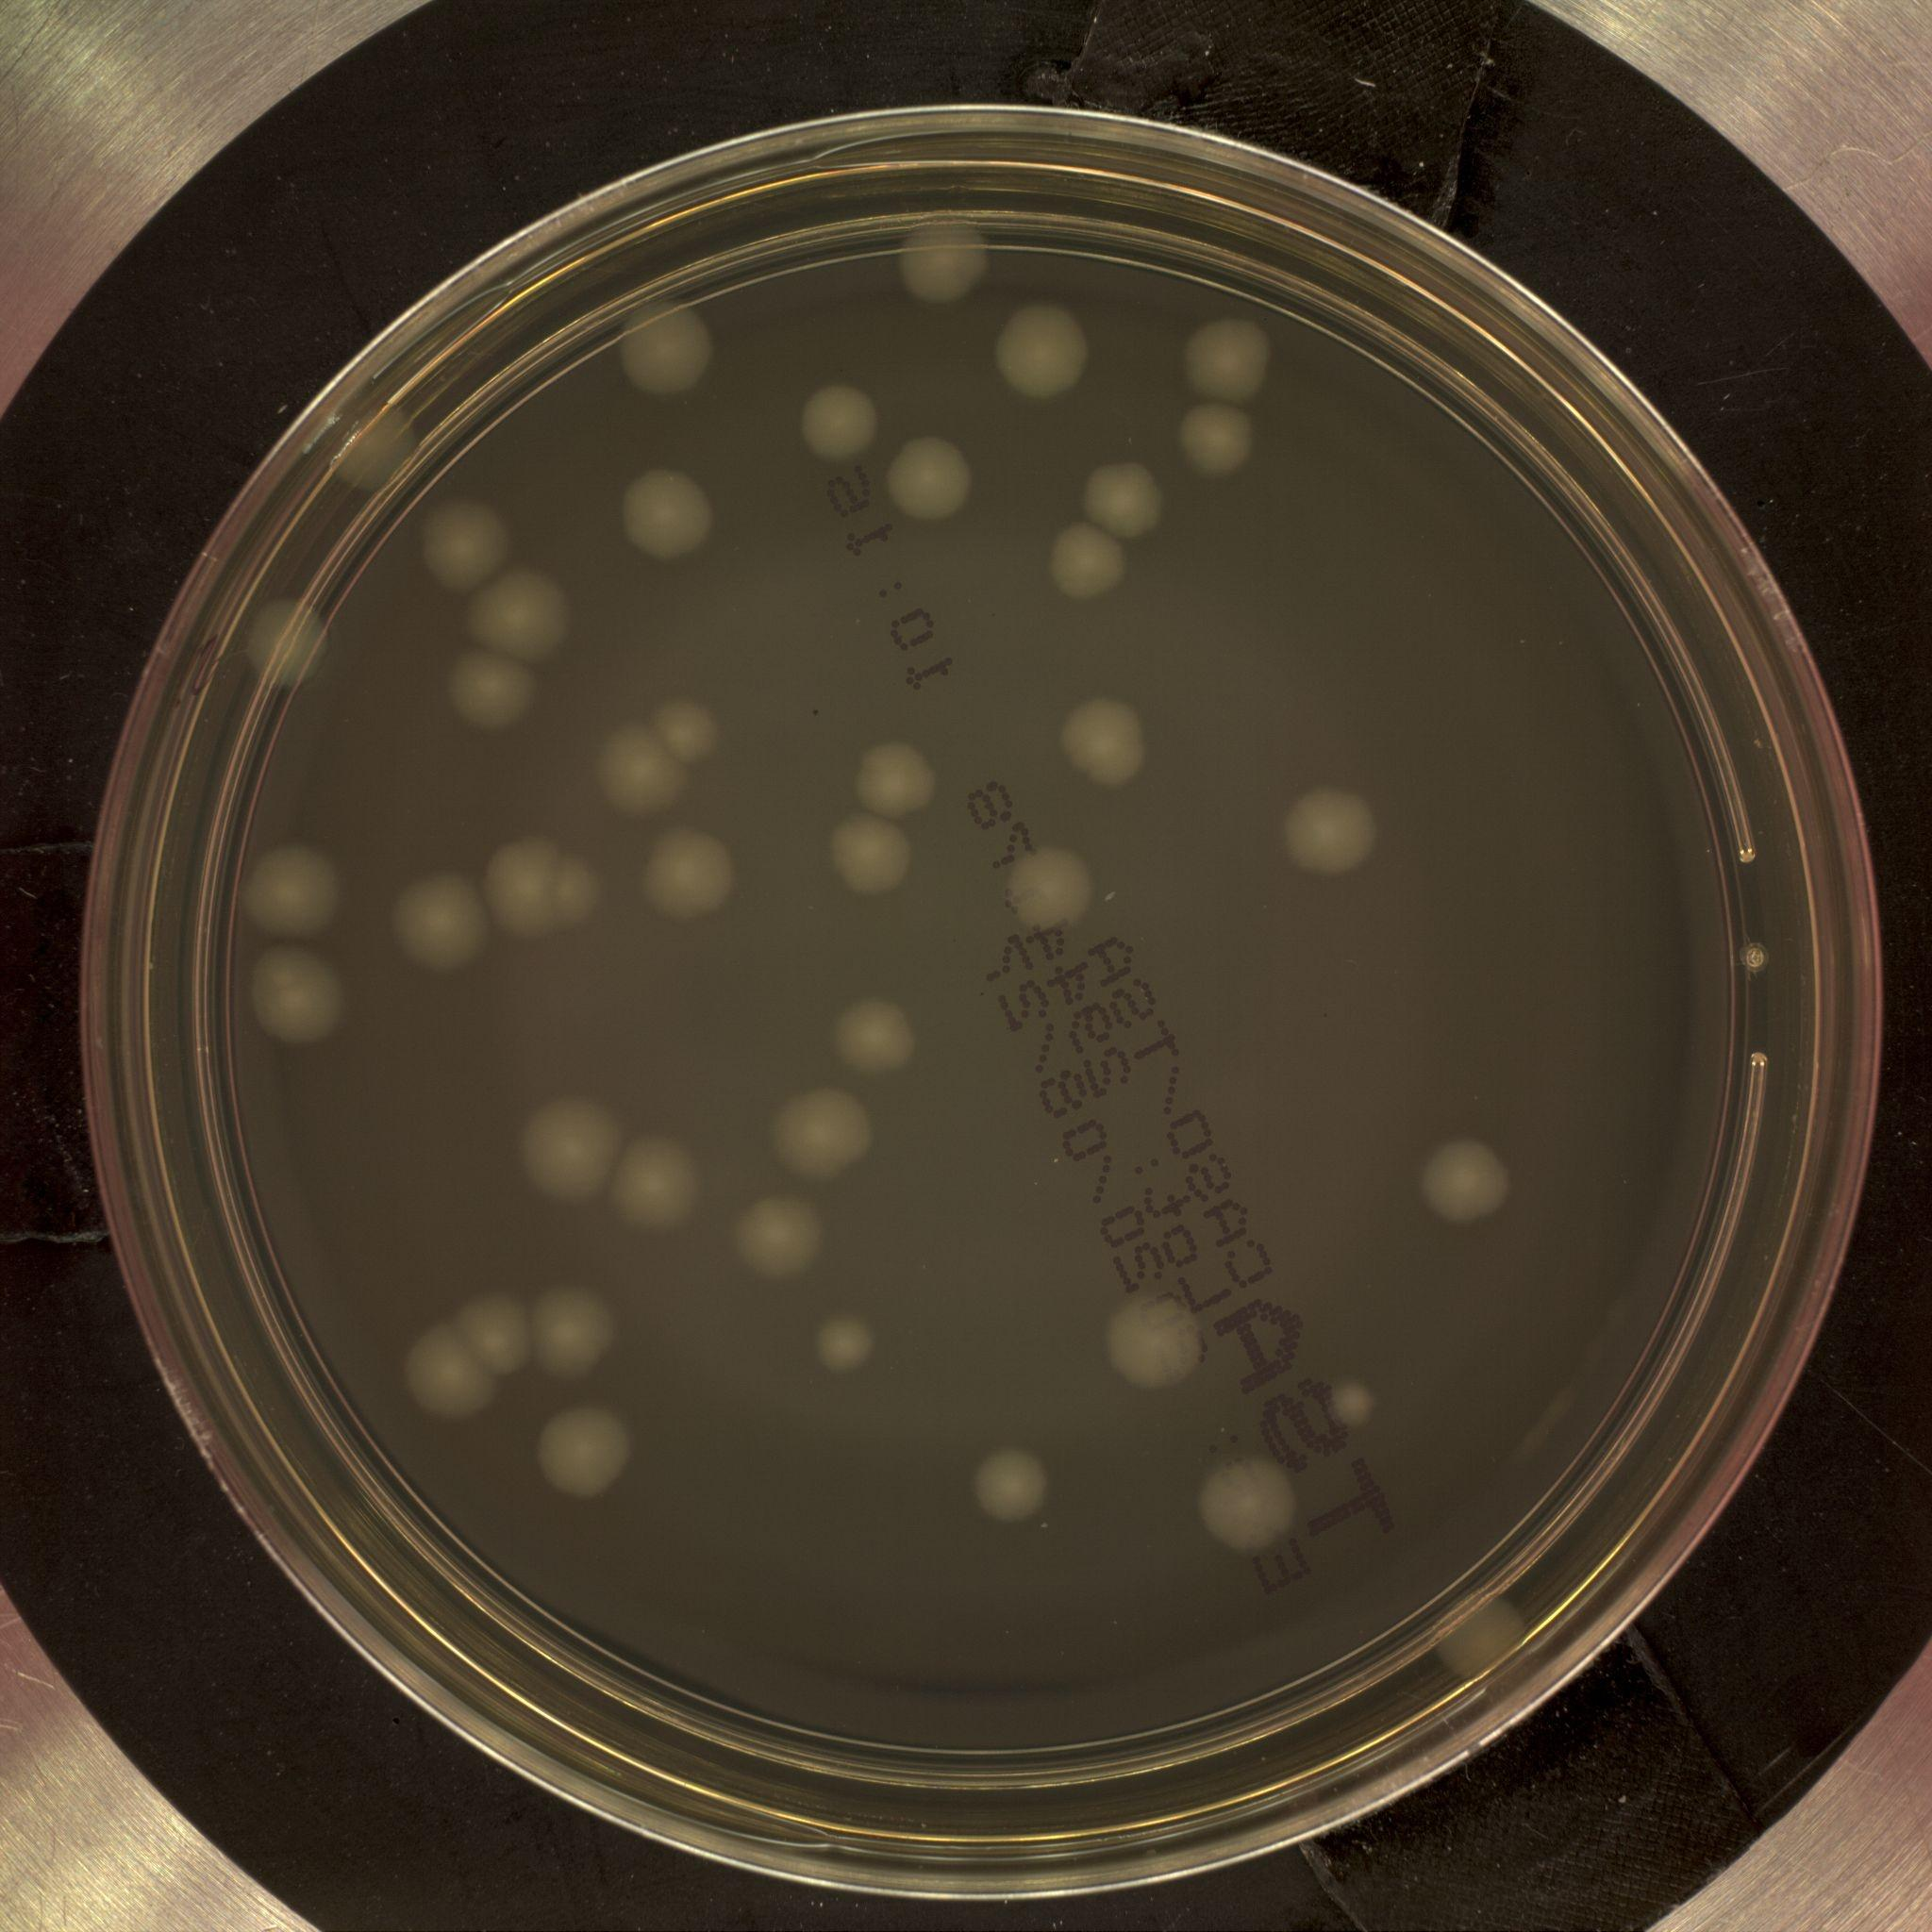e. coli: (594, 702, 718, 814), (492, 833, 609, 941), (393, 872, 494, 985), (612, 458, 722, 561), (621, 295, 722, 405), (465, 557, 573, 658), (872, 426, 973, 531), (246, 941, 352, 1040), (520, 1097, 623, 1198), (1421, 1132, 1522, 1235), (1056, 688, 1154, 794), (1104, 1290, 1207, 1389), (994, 835, 1092, 939), (1200, 1451, 1295, 1557), (329, 395, 425, 501), (996, 295, 1090, 403), (775, 1088, 870, 1187), (609, 1123, 706, 1219), (651, 823, 740, 927), (393, 1323, 492, 1415), (248, 842, 340, 941), (826, 814, 916, 913), (796, 366, 885, 467), (899, 211, 994, 303), (524, 1292, 621, 1382), (541, 1401, 633, 1495), (851, 729, 945, 821), (446, 646, 541, 736), (1433, 1594, 1537, 1674), (1180, 317, 1276, 403), (1284, 786, 1378, 872), (244, 593, 324, 692), (1081, 460, 1171, 547), (425, 487, 506, 579), (736, 1191, 824, 1274), (449, 1284, 531, 1373), (842, 1003, 924, 1085), (1053, 518, 1127, 603), (1315, 1355, 1391, 1437), (1180, 403, 1258, 479), (975, 1440, 1047, 1522), (807, 1311, 881, 1384)
